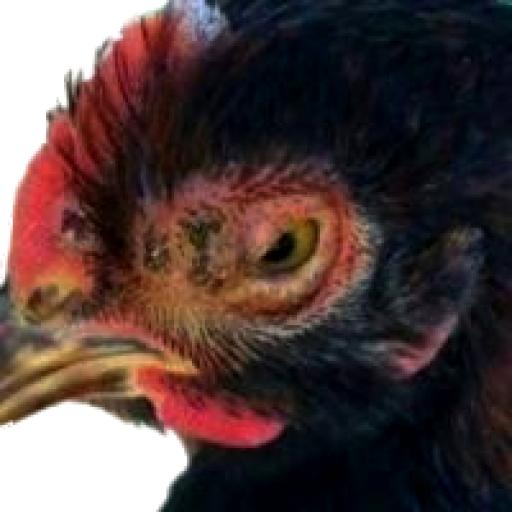disease: (134, 187, 345, 317), (16, 251, 112, 344), (39, 166, 116, 253)
